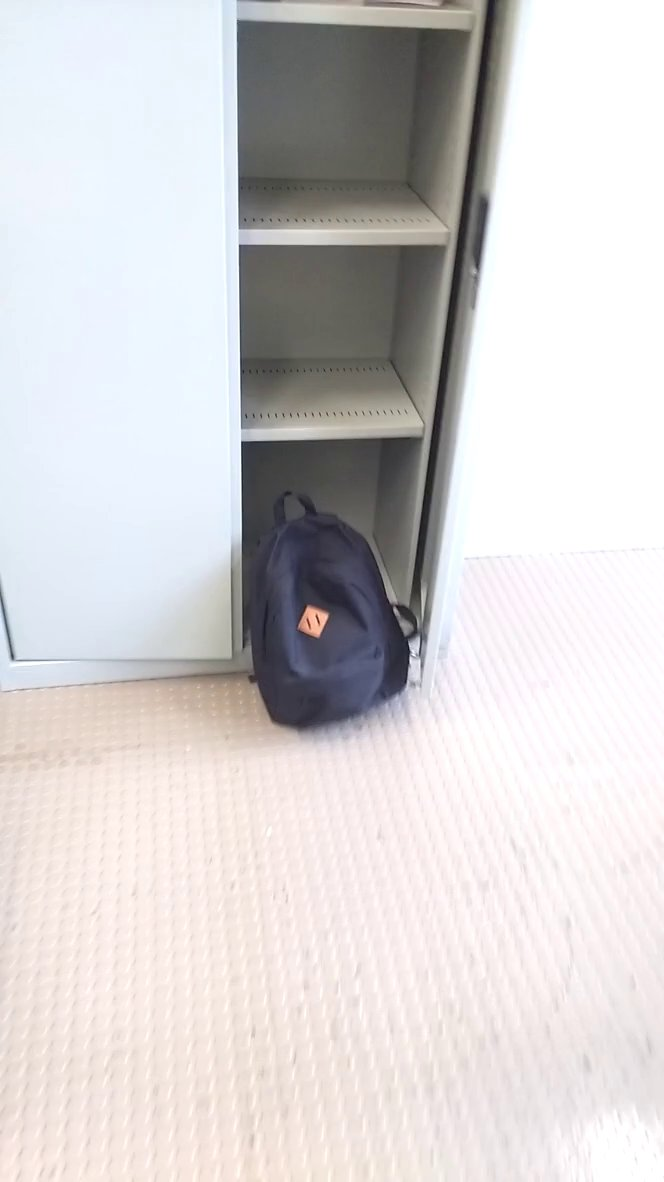bag: (235, 485, 424, 742)
